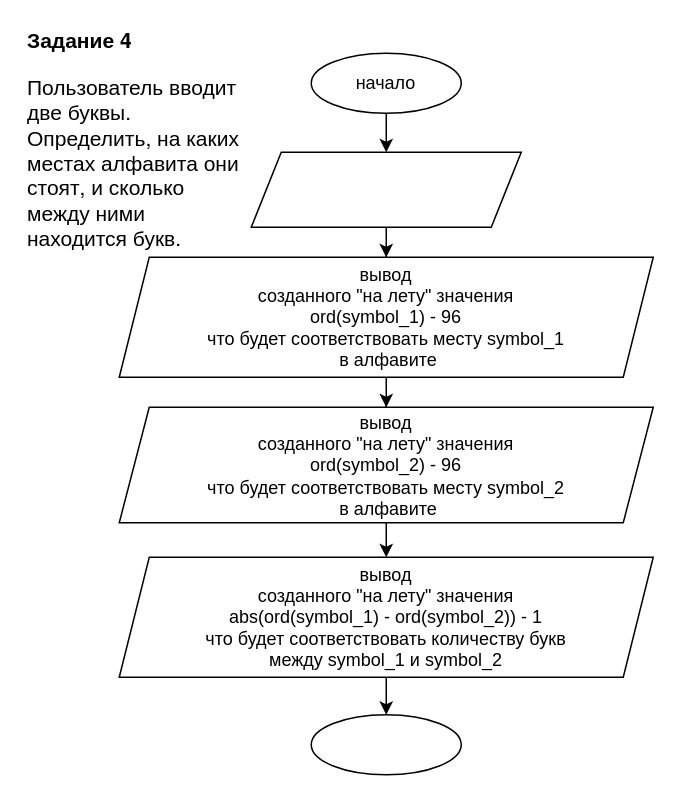
The diagram is 680 pixels wide and 801 high, and some of its shapes have lost their labels. The shapes that lost their labels are listed below. From the top down, each one's centre as x and y in pixels, then its label:
point 385,189: ввод symbol_1 и symbol_2
point 385,744: конец
